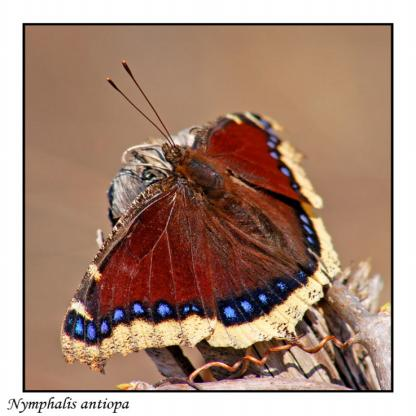Mourning Cloak: (42, 61, 378, 391)
